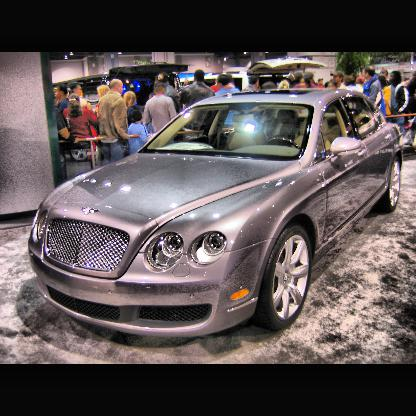Bentley Continental Flying Spur Sedan 2007: (26, 85, 405, 346)
